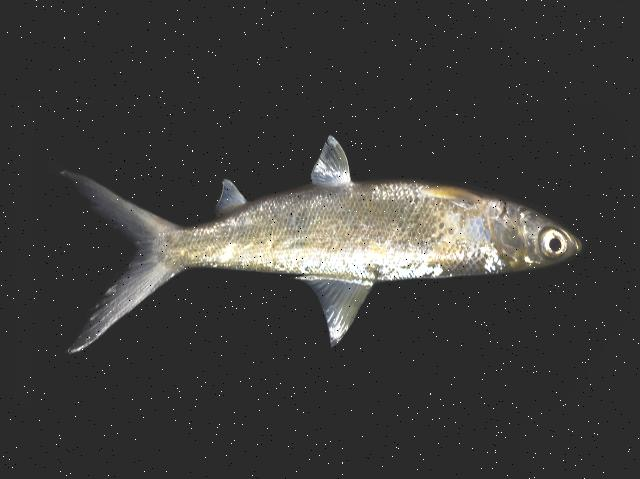Mulut: (544, 218, 598, 272)
Sirip Anal: (200, 162, 260, 231)
Sirip Dada: (410, 168, 490, 218)
Sirip Ekor: (35, 153, 189, 365)
Sirip Perut: (290, 121, 364, 201)
Sirip Punggung: (282, 264, 386, 358)
